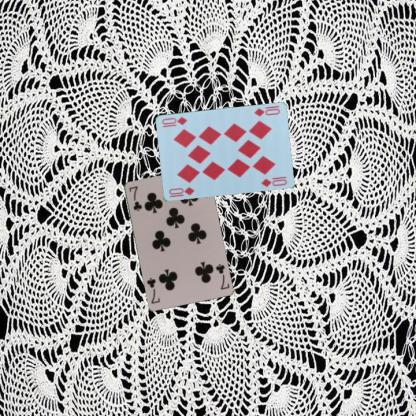10d: (166, 184, 196, 199), (251, 103, 281, 118)
7c: (213, 261, 231, 291), (127, 183, 142, 212)
